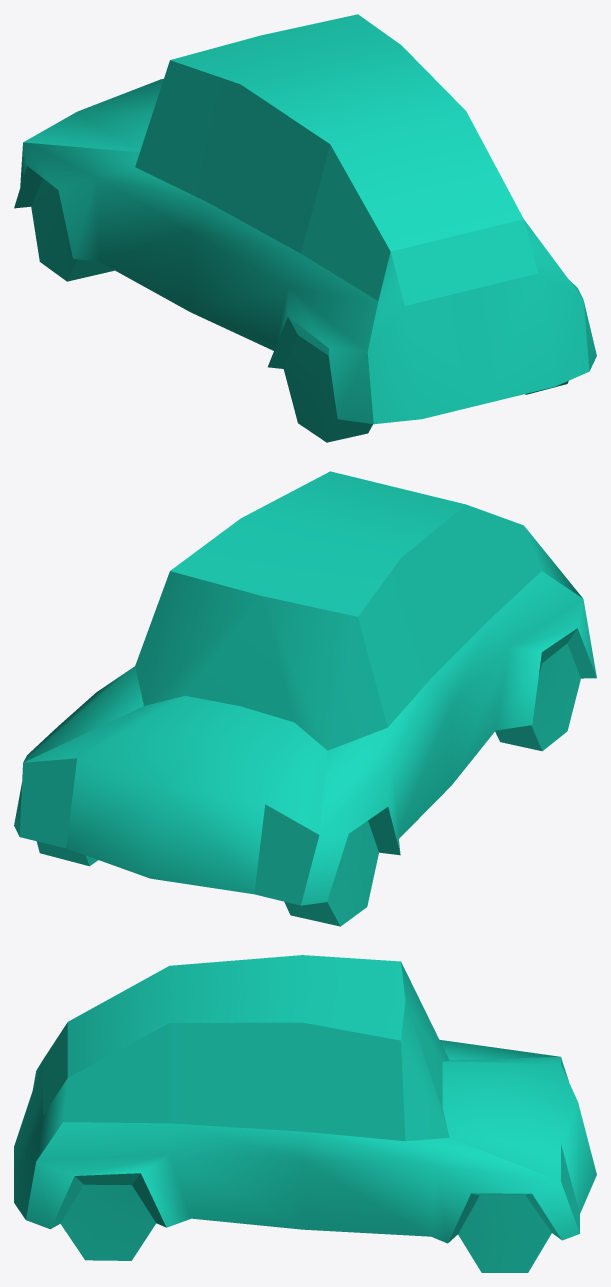
Rendered from tealcartest.fbx.
The picture shows the model from 3 angles, top to bottom: view 1: azimuth 30°, elevation 25°; view 2: azimuth 150°, elevation 25°; view 3: azimuth 270°, elevation 25°; orthographic projection. The views are drawn at different scales.
Parts seen in each view (by area): view 1: pCylinder5; view 2: pCylinder5; view 3: pCylinder5.
Boxes of the visible parts, x1,y1,x2,y2 form: pCylinder5: [14, 14, 596, 442]; pCylinder5: [14, 471, 596, 926]; pCylinder5: [14, 955, 596, 1272].
Bounding box in the file's own units: 115 × 85.75 × 204.
